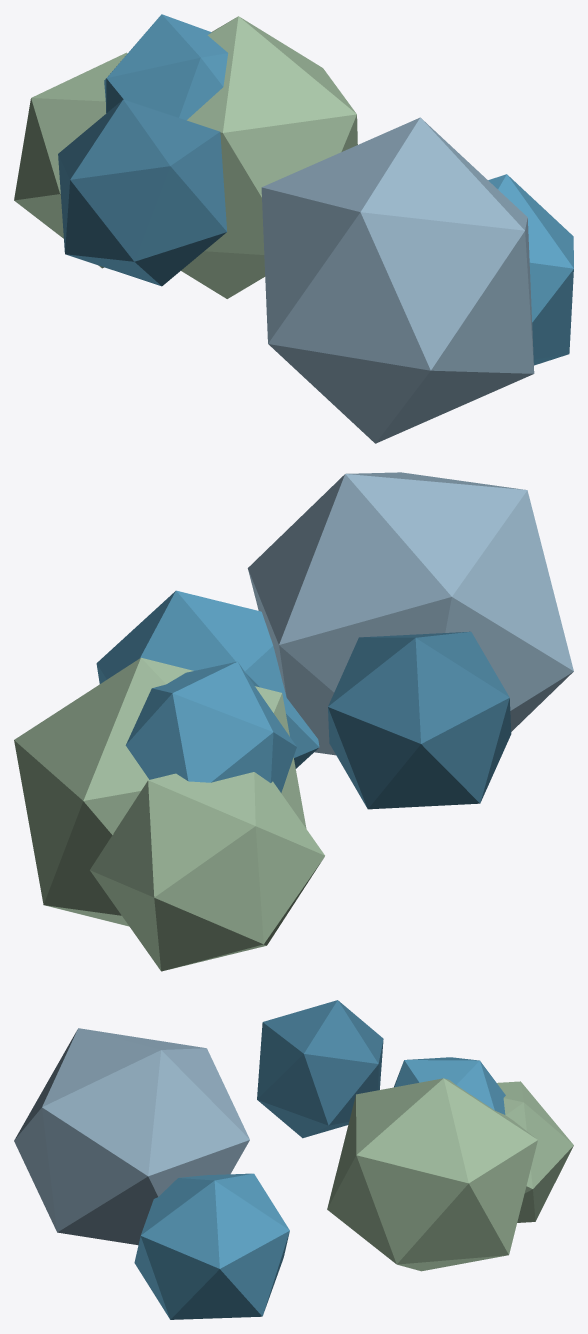
File: wind_banner.glb
3 views of the same model, one above another, from view 1: azimuth 30°, elevation 25°; view 2: azimuth 150°, elevation 25°; view 3: azimuth 270°, elevation 25° (orthographic). The views are drawn at different scales.
Visible parts, largest first — view 1: cluster_2, cluster_3, cluster_1, cluster_0, cluster_5, cluster_4; view 2: cluster_2, cluster_5, cluster_3, cluster_1, cluster_0, cluster_4; view 3: cluster_2, cluster_1, cluster_4, cluster_3, cluster_5, cluster_0.
Part boxes in pixels (x1,y1,x2,y2): cluster_2: (261, 117, 534, 443); cluster_3: (58, 99, 227, 286); cluster_1: (181, 16, 357, 298); cluster_0: (104, 14, 228, 120); cluster_5: (14, 52, 127, 268); cluster_4: (488, 174, 573, 365); cluster_2: (247, 472, 573, 755); cluster_5: (90, 772, 324, 971); cluster_3: (328, 631, 511, 809); cluster_1: (14, 657, 306, 926); cluster_0: (125, 661, 296, 792); cluster_4: (96, 590, 319, 768); cluster_2: (14, 1028, 249, 1245); cluster_1: (327, 1078, 537, 1271); cluster_4: (134, 1173, 289, 1319); cluster_3: (257, 1000, 383, 1138); cluster_5: (497, 1081, 573, 1222); cluster_0: (394, 1057, 505, 1114).
Size of what is drawn, in the model's own units: 1.9 by 1.29 by 2.74.
